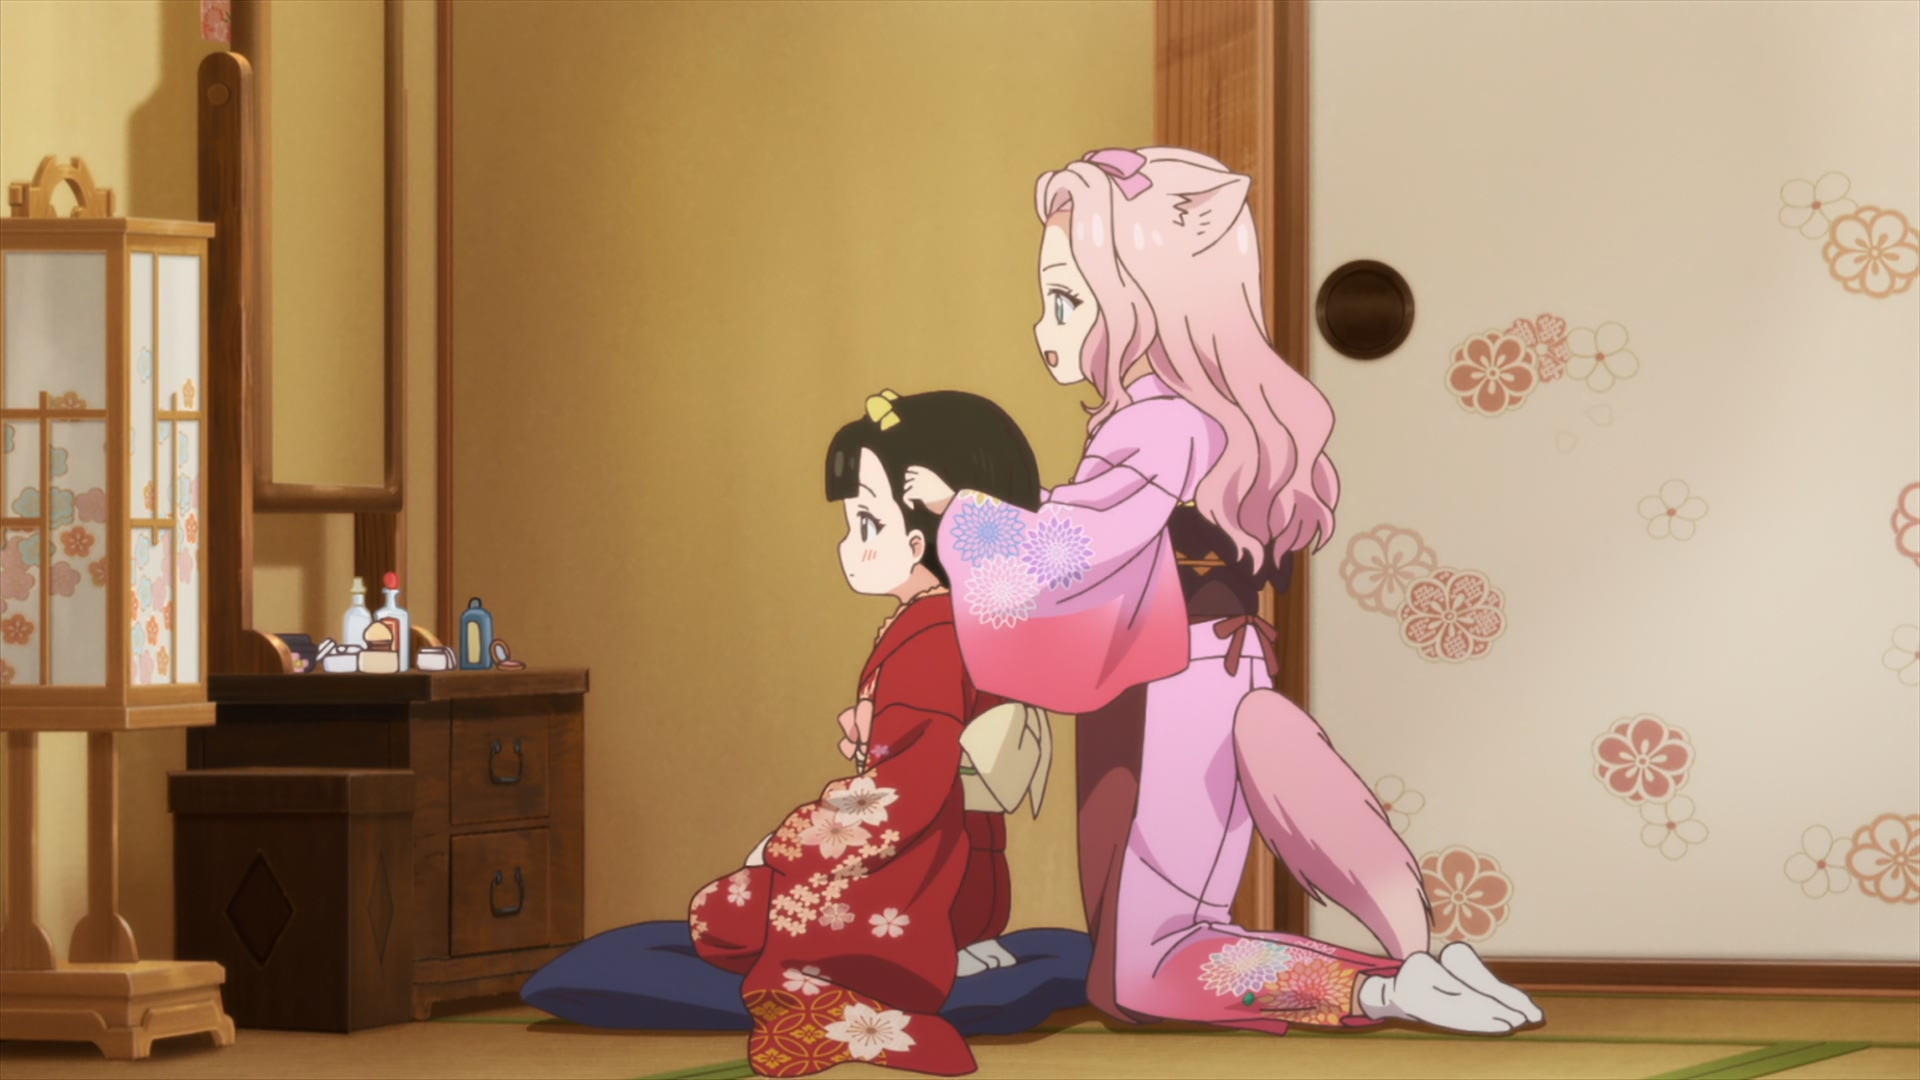其他: (692, 392, 1040, 1077)
莲: (905, 148, 1548, 1036)
